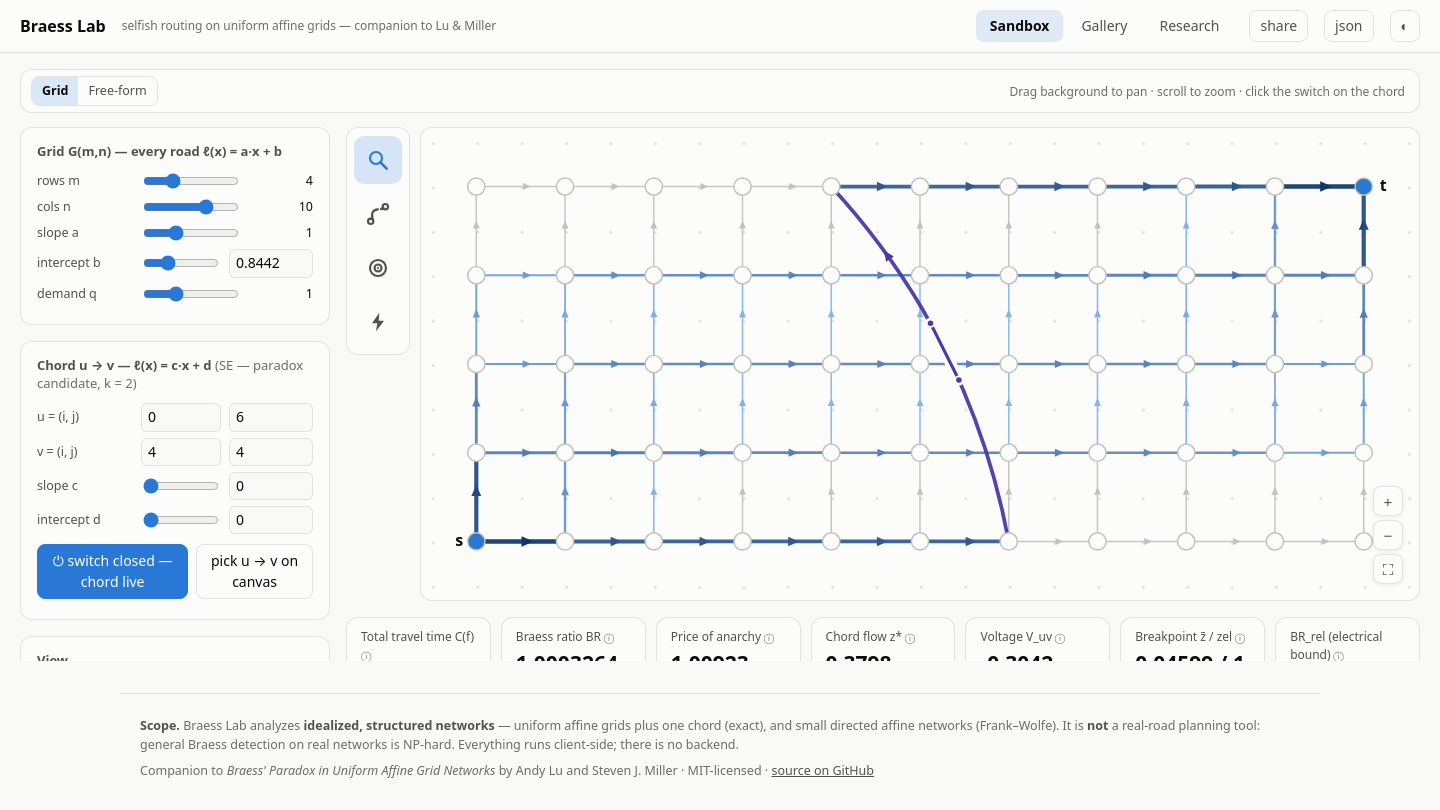
Test: opens the chord switch and the paradox disappears
Click the button "⏻ switch closed — chord live" at (113, 572), box [37,544,188,599]
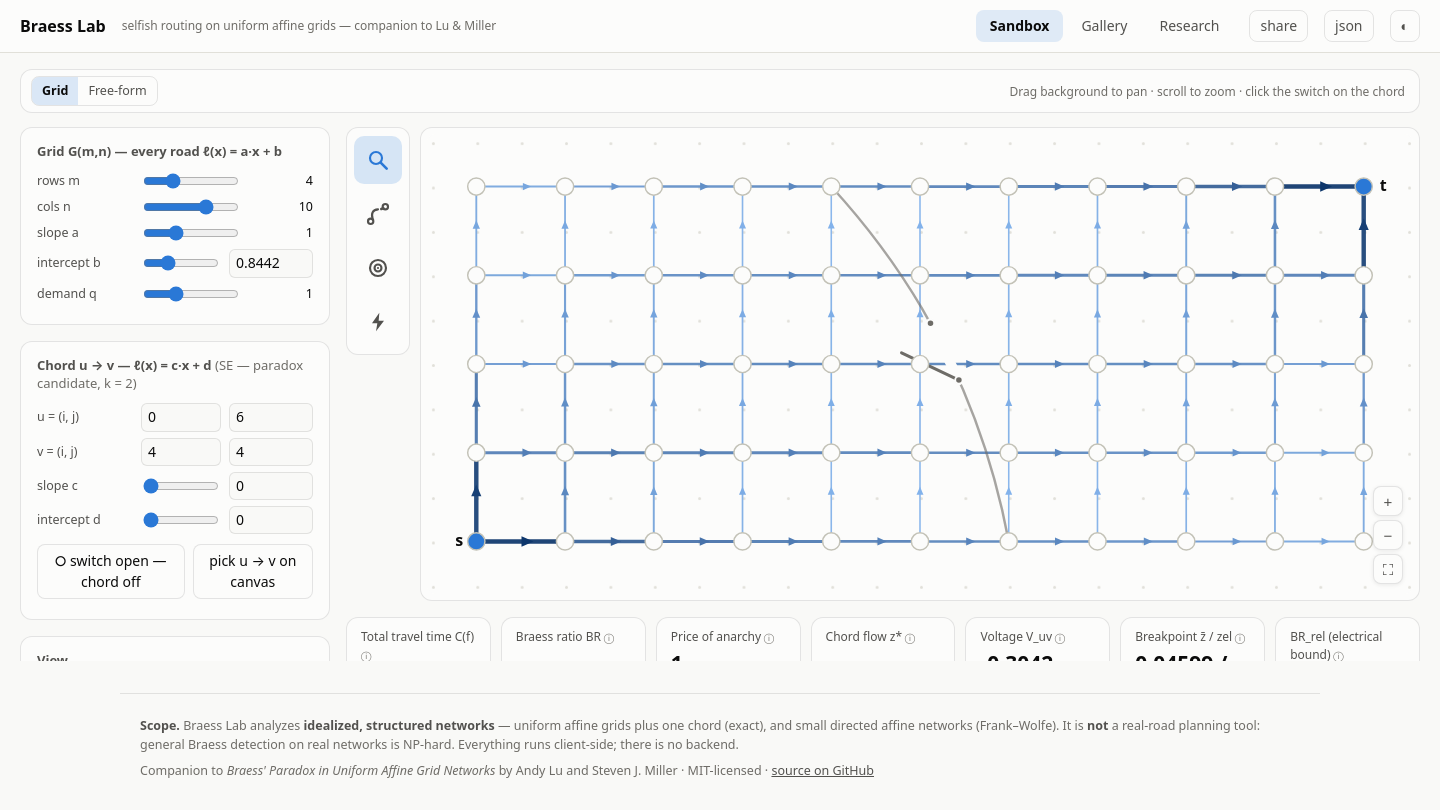
expect the button "⭘ switch open — chord off" is shown: met, box [37,544,185,599]
